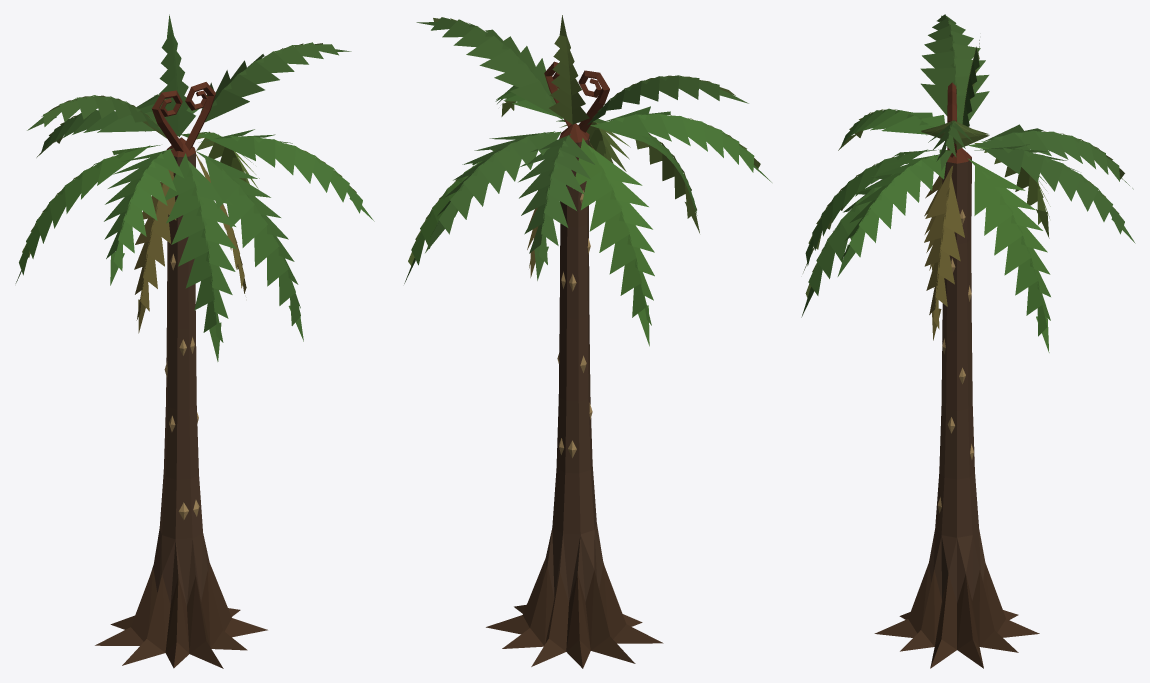
Rendered from tree-fern-78320e.glb.
3 renders of one model, left to right at view 1: azimuth 30°, elevation 25°; view 2: azimuth 150°, elevation 25°; view 3: azimuth 270°, elevation 25°, orthographic. The views are drawn at different scales.
Visible parts, largest first — view 1: tree-fern-78320e; view 2: tree-fern-78320e; view 3: tree-fern-78320e.
Part boxes in pixels (left/top/right/bottom): tree-fern-78320e: left=15, top=14, right=374, bottom=668; tree-fern-78320e: left=404, top=15, right=771, bottom=668; tree-fern-78320e: left=801, top=14, right=1135, bottom=668.
Bounding box in the file's own units: 4.44 × 8 × 4.03.
